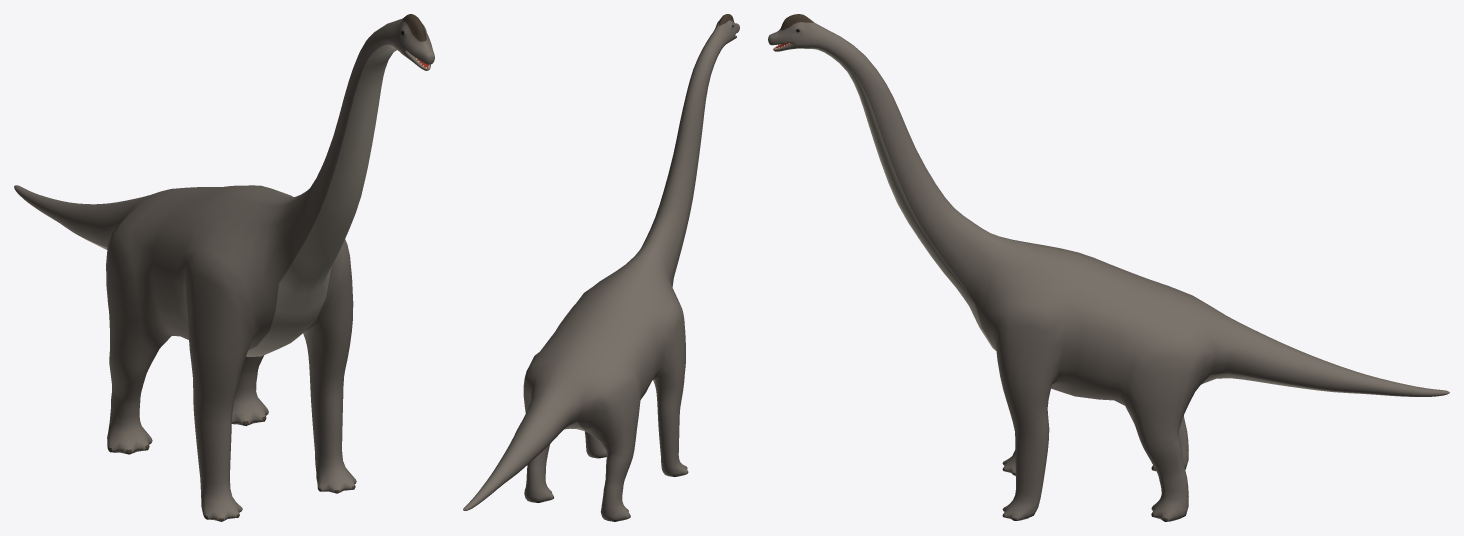
The model's file is Brachiosaurus_Rig.fbx.
3 renders of one model, left to right at view 1: azimuth 30°, elevation 25°; view 2: azimuth 150°, elevation 25°; view 3: azimuth 270°, elevation 25°, orthographic. The views are drawn at different scales.
Parts seen in each view (by area): view 1: pasted__brachiosaurus; view 2: pasted__brachiosaurus; view 3: pasted__brachiosaurus.
Boxes of the visible parts, x1=… form: pasted__brachiosaurus: x1=14, y1=14, x2=434, y2=521; pasted__brachiosaurus: x1=463, y1=14, x2=739, y2=521; pasted__brachiosaurus: x1=768, y1=14, x2=1449, y2=521.
Bounding box in the file's own units: 336 × 1176 × 1520.
Materials: 1 (1 with a texture image).
